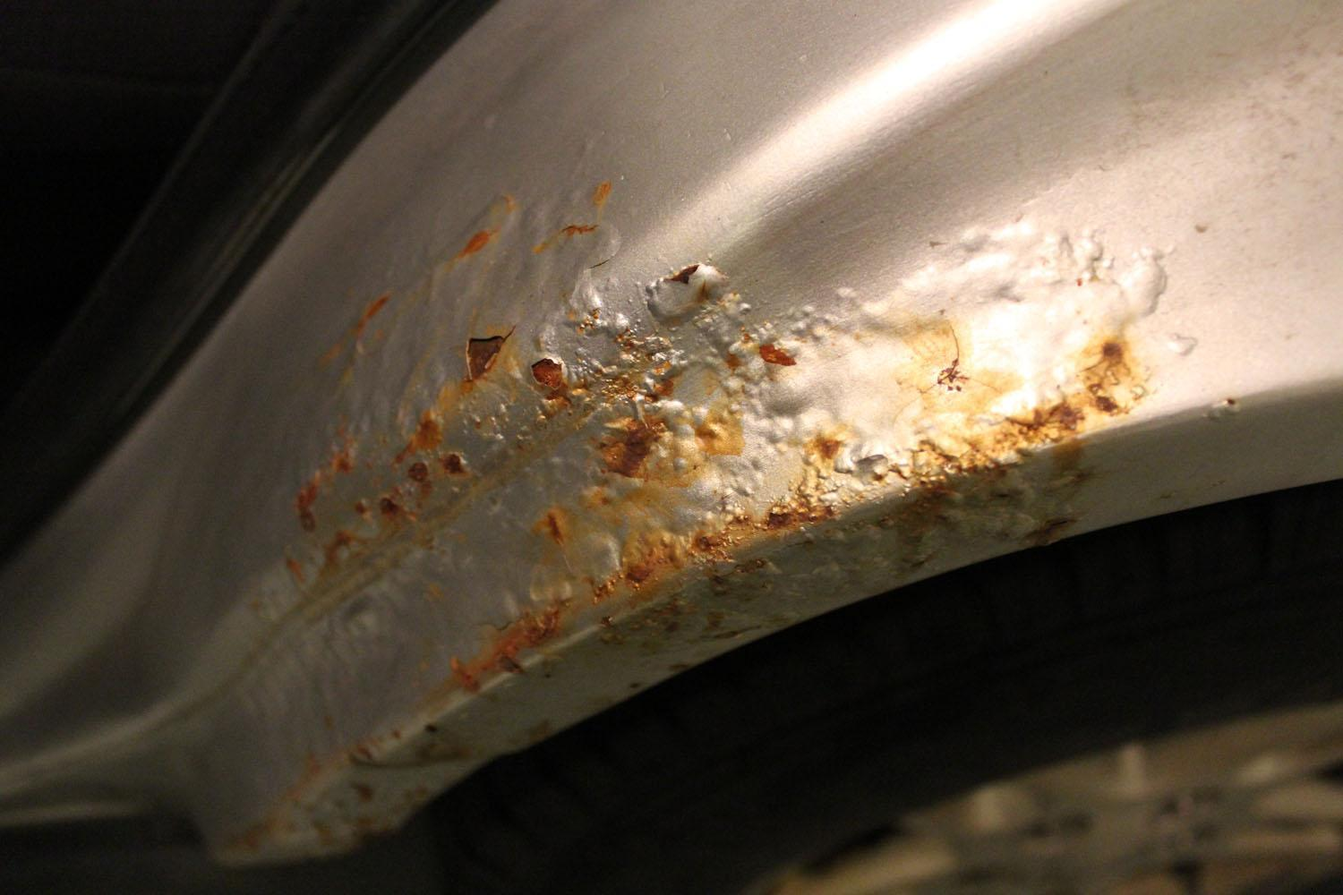corrosion: (194, 226, 1125, 747)
